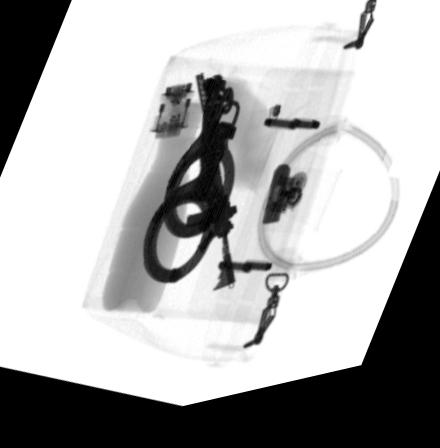Gun: (187, 76, 240, 301)
HandCuffs: (139, 77, 244, 291)
